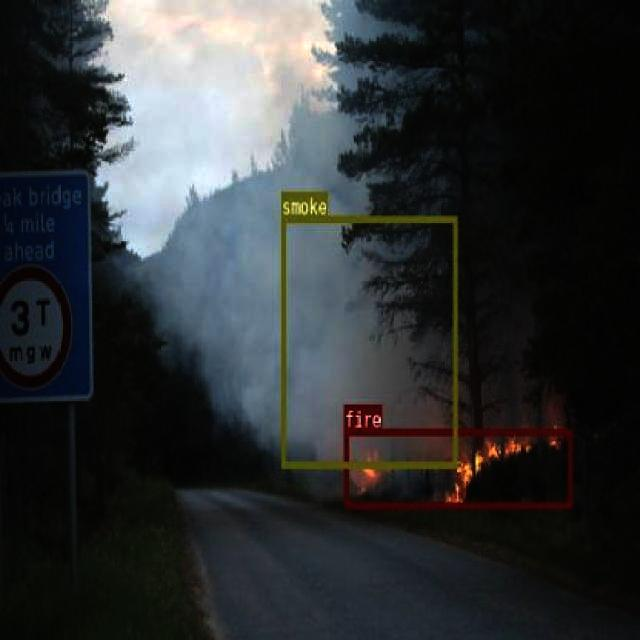fire: (343, 428, 571, 507)
smoke: (280, 215, 457, 468)
